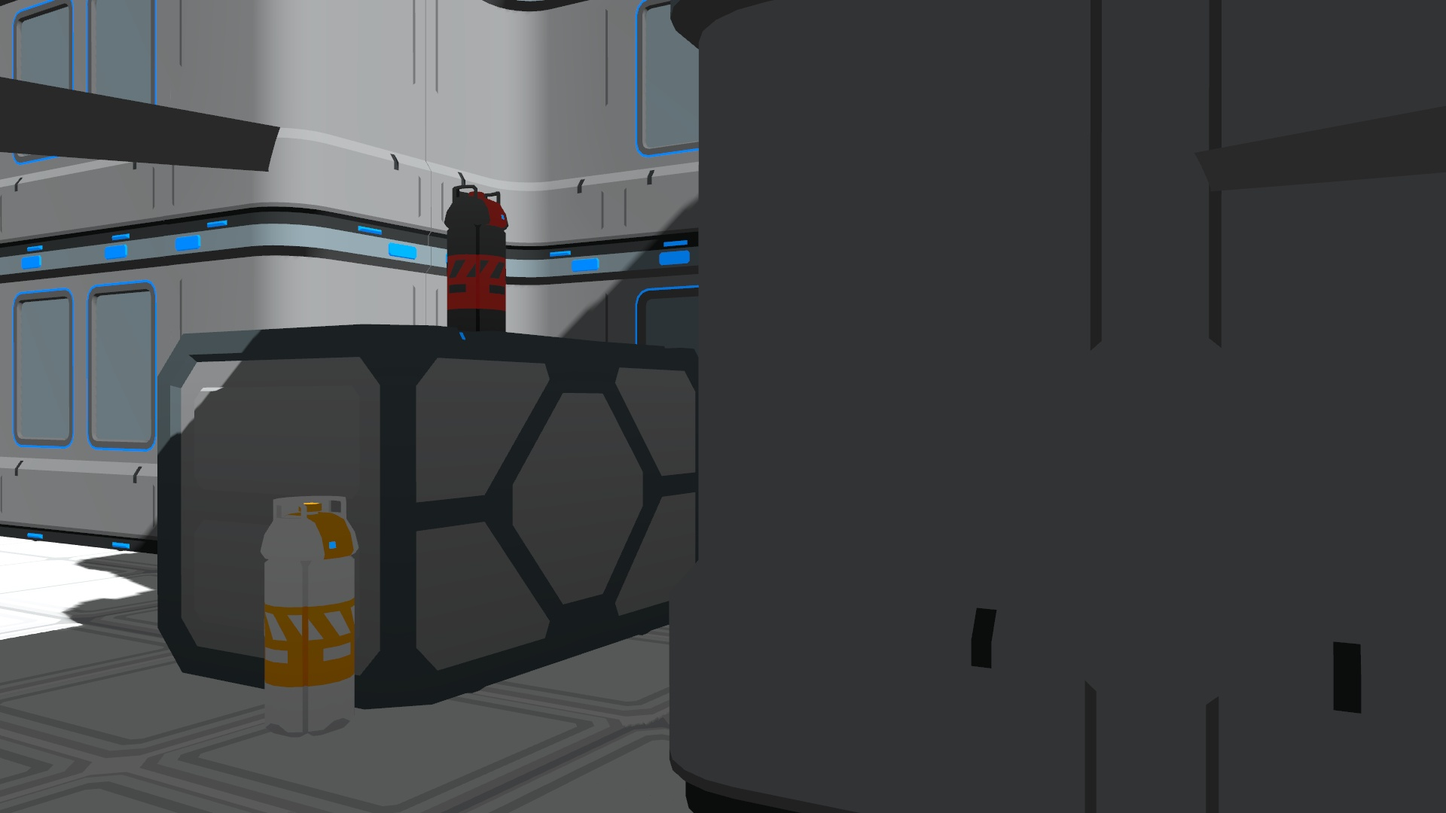red_barrel: (443, 181, 511, 335)
yellow_barrel: (263, 492, 358, 740)
